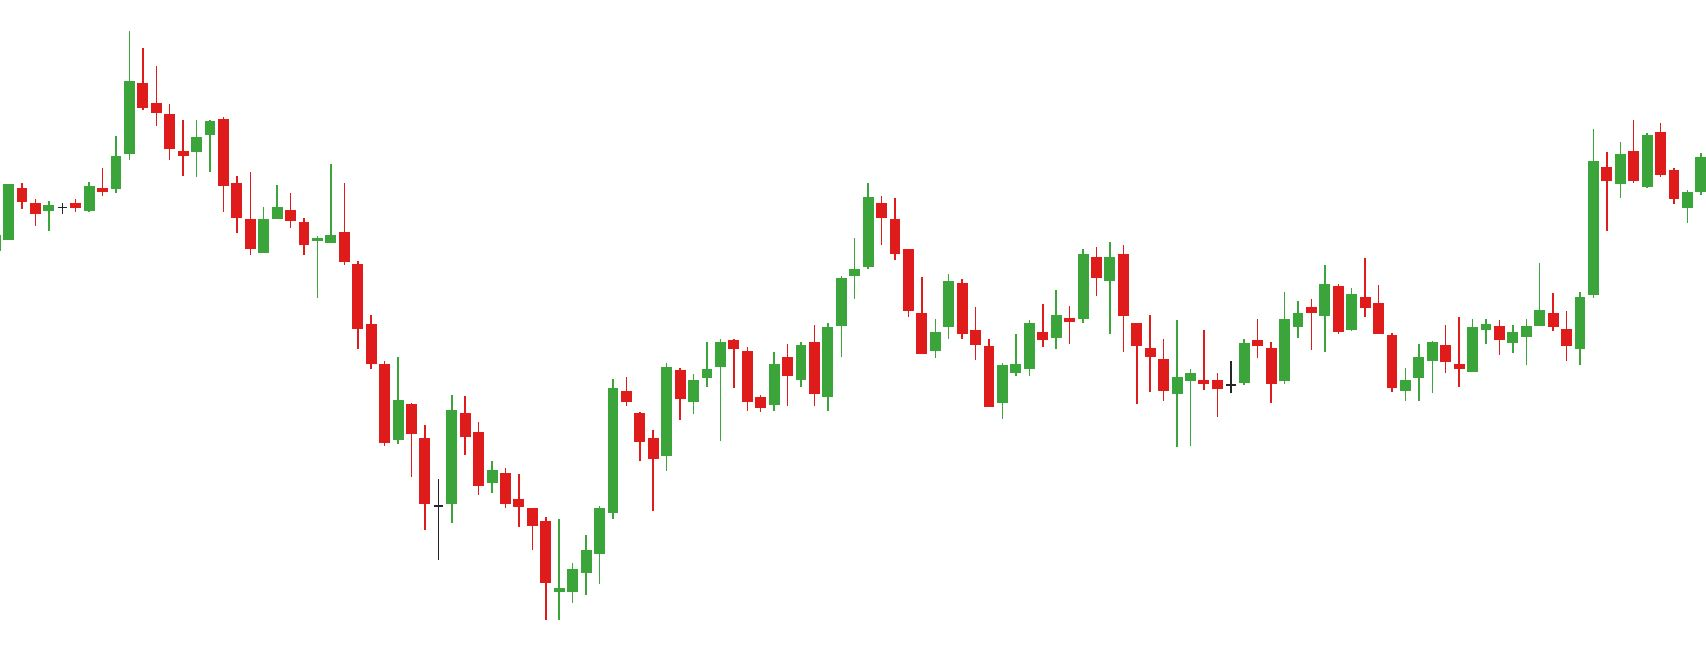buy: (993, 307, 1183, 451), (1279, 302, 1429, 408)
